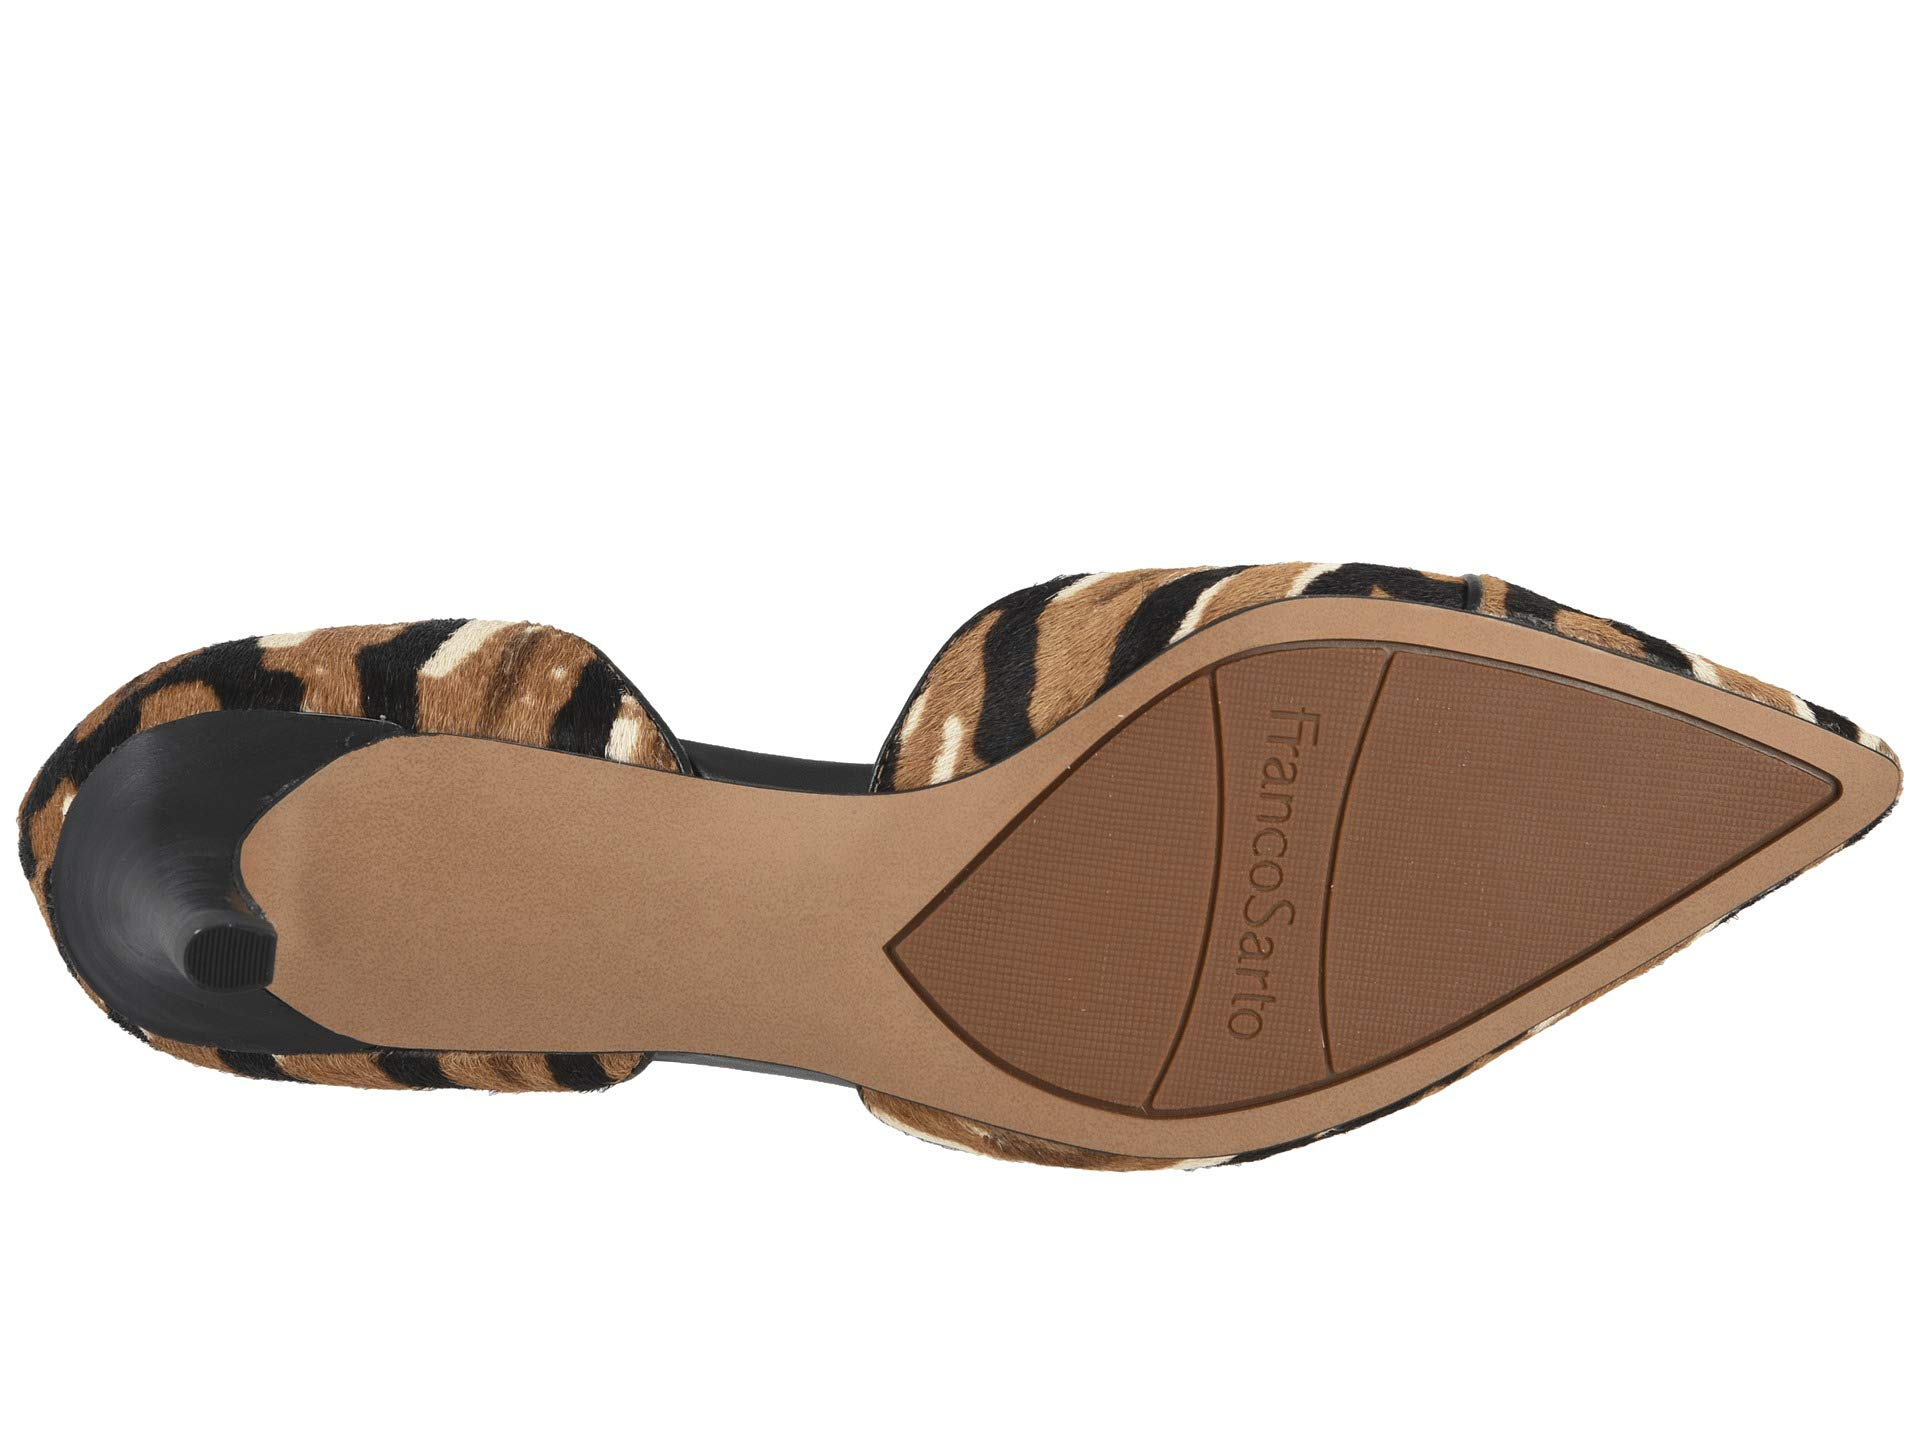circle: (1211, 694, 1330, 1060)
text: (1211, 694, 1330, 1060)
